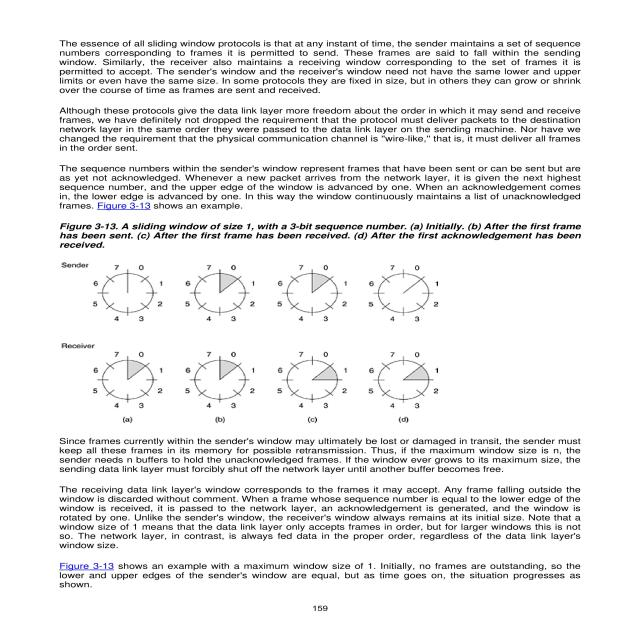diagram: (47, 217, 610, 428)
